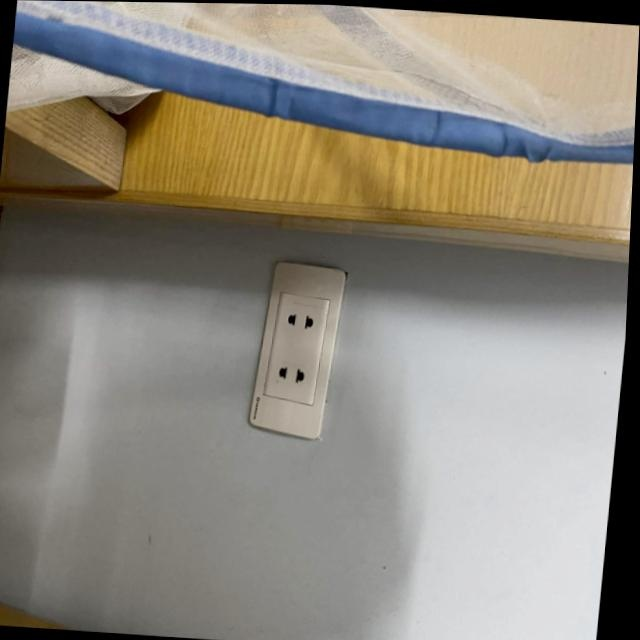outlet: (246, 259, 347, 441)
